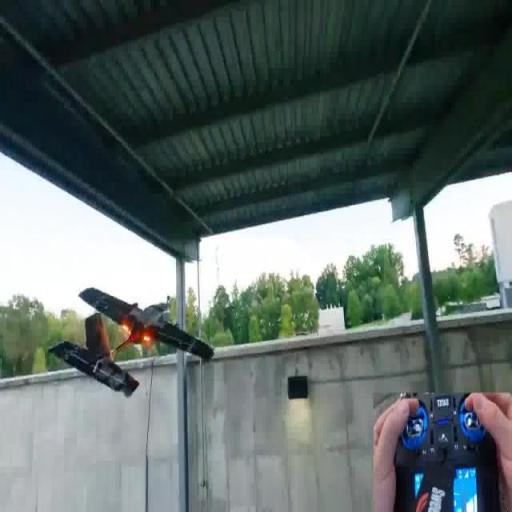uav: (45, 272, 220, 402)
